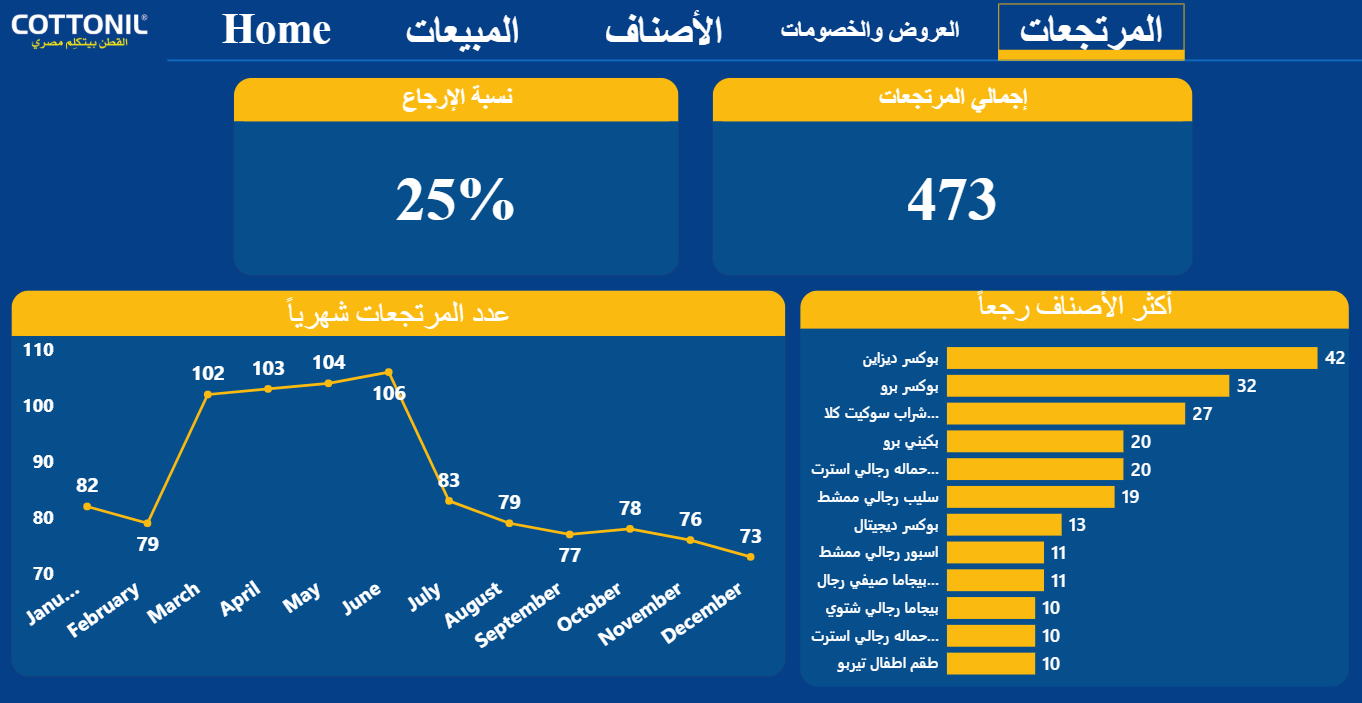

Layout of this report page (visuals, bound fields, positions):
{"tool":"powerbi","page":{"name":"المرتجعات","canvas":[1500,800],"ordinal":4},"visuals":[{"type":"shape","box":[0,69.5,1499.7,12.3],"z":0},{"type":"card","title":"إجمالي المرتجعات","fields":{"Values":["حركة_الأصناف.Total Returns"]},"box":[785.3,94.1,524.9,216.8],"z":1000},{"type":"card","title":"نسبة الإرجاع","fields":{"Values":["حركة_الأصناف.Return Rate %"]},"box":[263.1,94.1,486.7,216.8],"z":2000},{"type":"lineChart","title":"عدد المرتجعات شهرياً","fields":{"Category":["Calendar.Month Name"],"Y":["حركة_الأصناف.Total Returns"]},"box":[20.5,325.8,845.3,422.6],"z":3000},{"type":"clusteredBarChart","title":"أكثر الأصناف رجعاً","fields":{"Y":["حركة_الأصناف.Total Returns"],"Category":["حركة_الأصناف.الصنف"]},"box":[880.7,325.8,599.9,433.5],"z":4000},{"type":"image","box":[0,0,190.9,81.8],"z":5000},{"type":"shape","box":[1097.5,64.1,203.1,10.9],"z":6000},{"type":"actionButton","title":"المبيعات","box":[631.5,14.7,203.1,62.7],"z":7000},{"type":"actionButton","title":"المبيعات","box":[856.4,13.4,203.1,62.7],"z":8000},{"type":"actionButton","title":"المبيعات","box":[1097.8,13.4,203.1,62.7],"z":9000},{"type":"actionButton","title":"المبيعات","box":[412,14.7,203.1,62.7],"z":10000},{"type":"actionButton","title":"المبيعات","box":[208.6,9.5,203.1,62.7],"z":11000}]}

Visuals, with their boxes on the page's 1500x800 design canvas (x1, y1, x2, y2). These are canvas units, not pixel positions in the 1362x703 screenshot, which may show the page scaled, cropped or inside an application window:
shape: locate(0, 70, 1500, 82)
"إجمالي المرتجعات" card: locate(785, 94, 1310, 311)
"نسبة الإرجاع" card: locate(263, 94, 750, 311)
"عدد المرتجعات شهرياً" lineChart: locate(20, 326, 866, 748)
"أكثر الأصناف رجعاً" clusteredBarChart: locate(881, 326, 1481, 759)
image: locate(0, 0, 191, 82)
shape: locate(1098, 64, 1301, 75)
"المبيعات" actionButton: locate(632, 15, 835, 77)
"المبيعات" actionButton: locate(856, 13, 1060, 76)
"المبيعات" actionButton: locate(1098, 13, 1301, 76)
"المبيعات" actionButton: locate(412, 15, 615, 77)
"المبيعات" actionButton: locate(209, 10, 412, 72)
